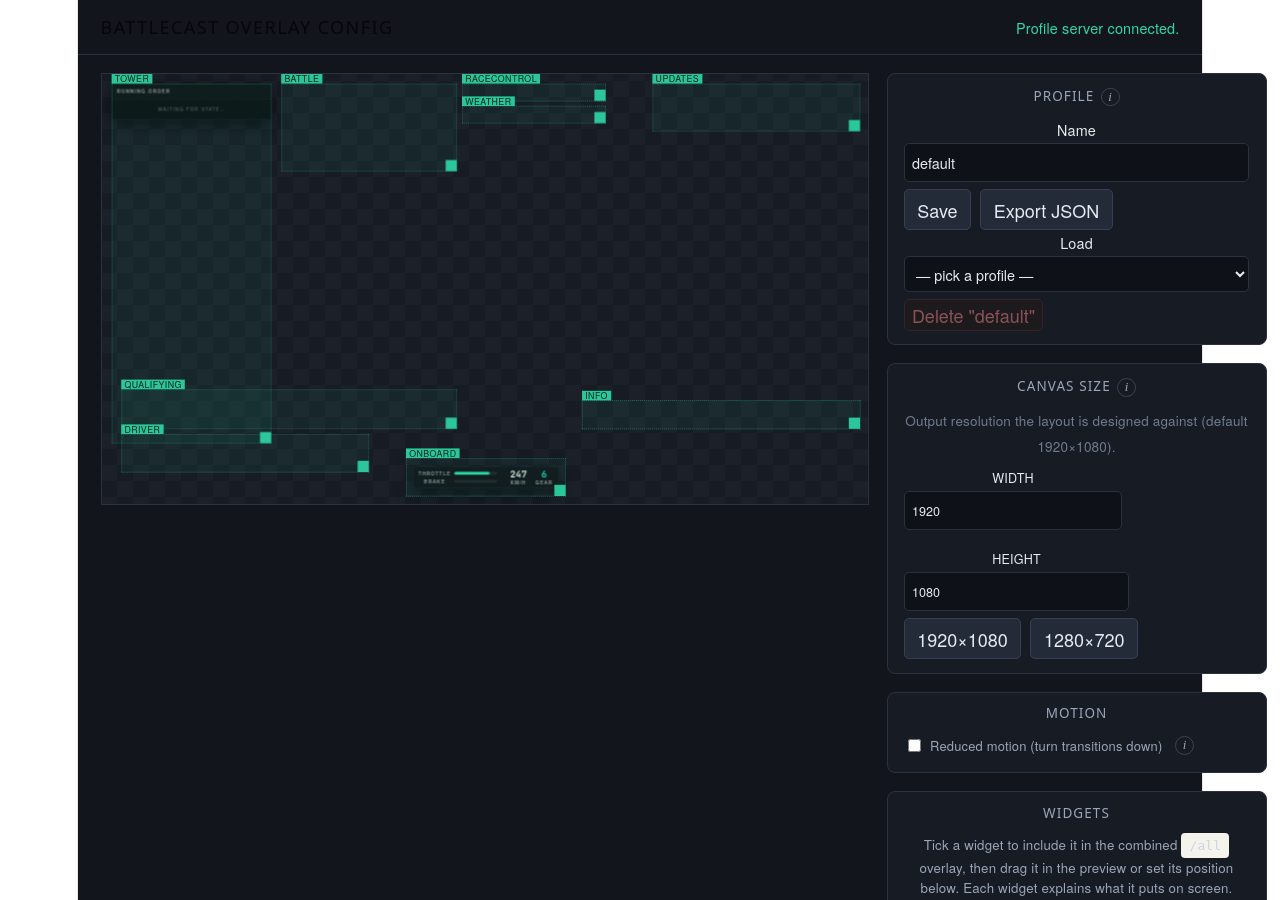
config editor: class tags › shows the saved value of a loaded profile
The width and height of the screenshot is (1280, 900).
Select "single-class" in the dropdown with test id "load" at [1076, 274], box [904,256,1249,292]
(page scrolled)
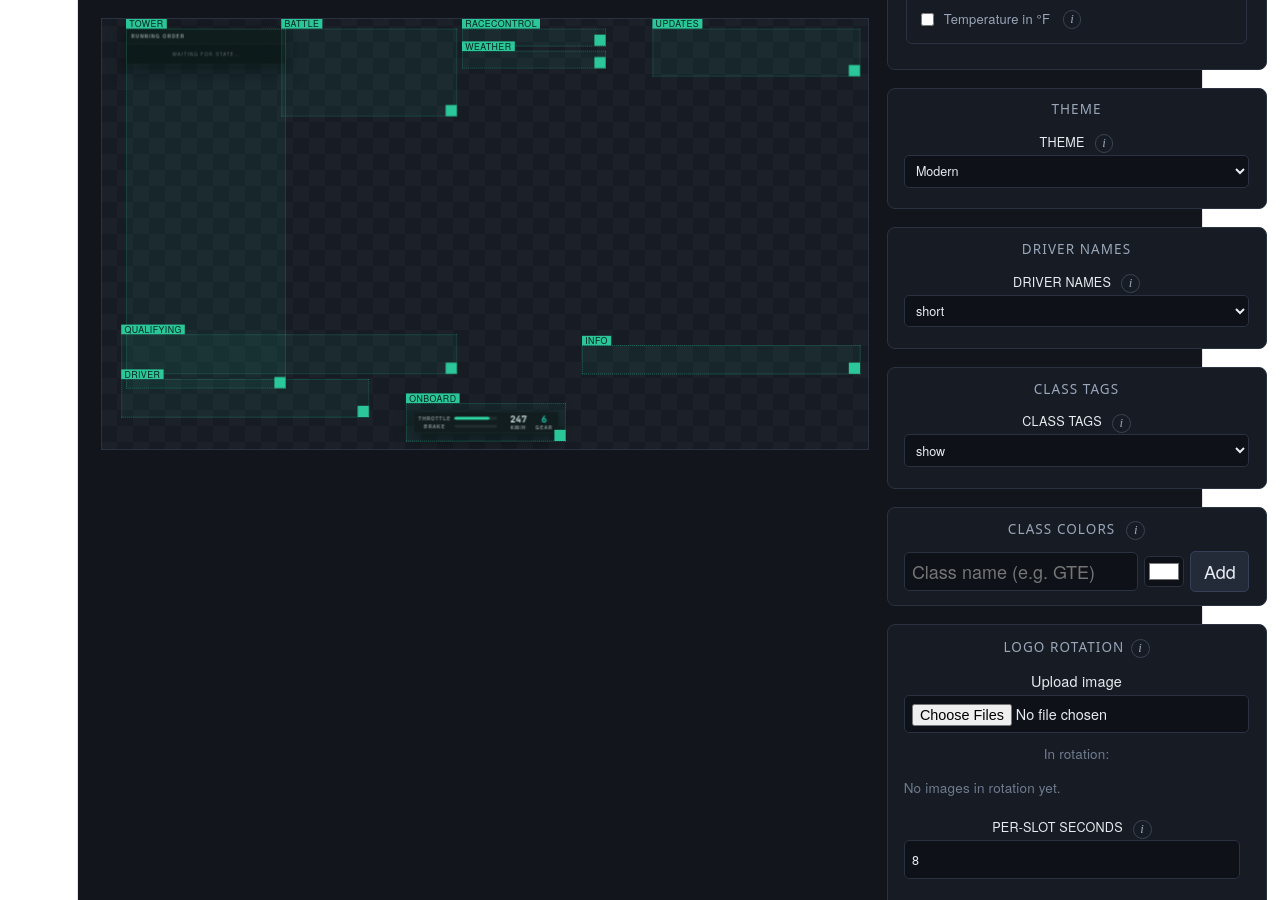
Check: the dropdown with test id "class-tags" shows "show", box [904,434,1249,467]
